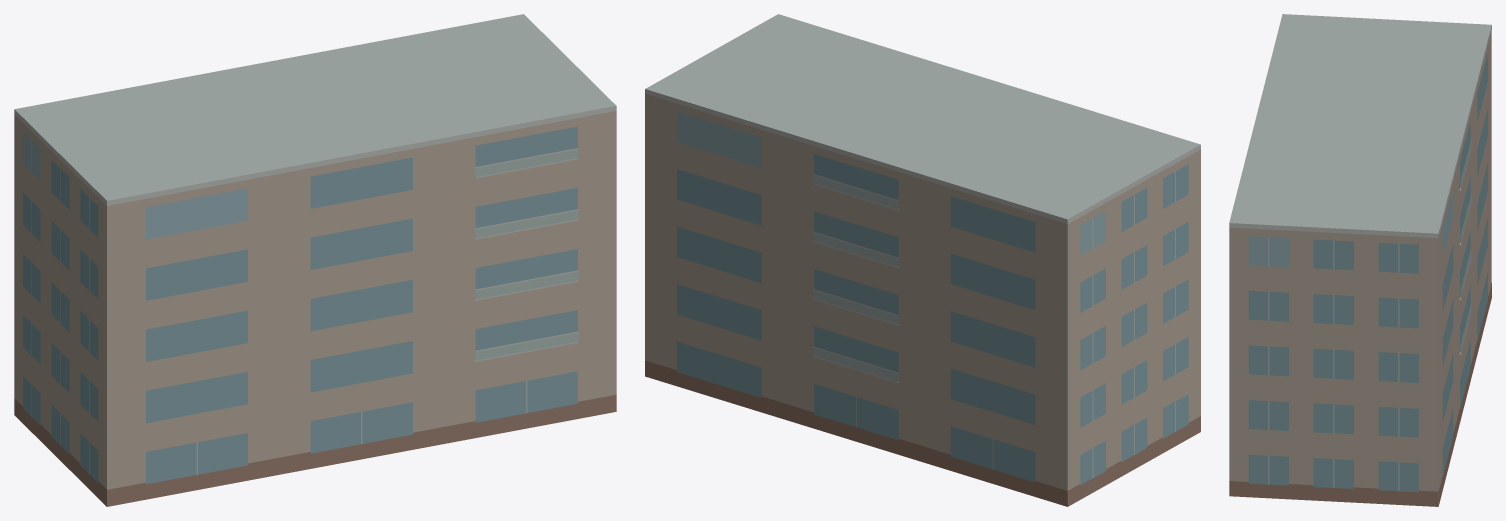
Rendered from survey-upis-32881166.glb.
The picture shows the model from 3 angles, left to right: view 1: azimuth 30°, elevation 25°; view 2: azimuth 150°, elevation 25°; view 3: azimuth 270°, elevation 25°; orthographic projection. The views are drawn at different scales.
Parts seen in each view (by area): view 1: survey-upis-32881166.tmp; view 2: survey-upis-32881166.tmp; view 3: survey-upis-32881166.tmp.
Part boxes in pixels (x1,y1,x2,y2): survey-upis-32881166.tmp: (14,14,616,506); survey-upis-32881166.tmp: (645,14,1200,506); survey-upis-32881166.tmp: (1229,14,1491,506).
Bounding box in the file's own units: 25.19 × 14.6 × 12.73.
